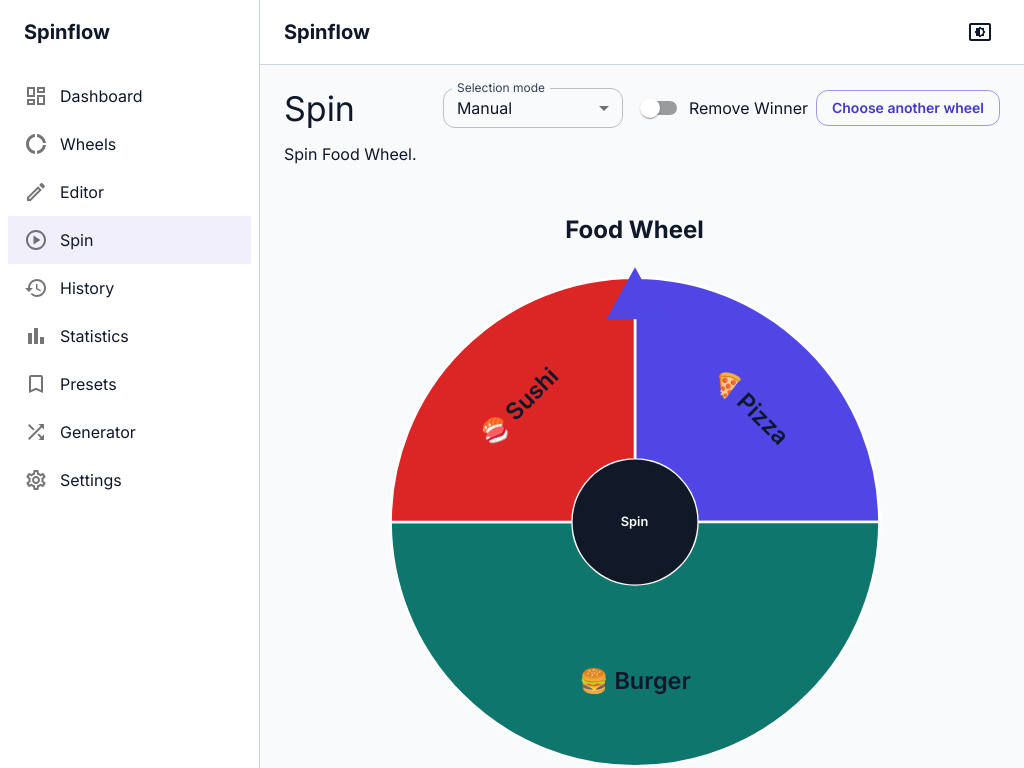
SpinScreen › keeps the wheel open when Close is chosen for a winner with children
This screenshot has width=1024, height=768.
Click the button with aria-label "Spin the wheel". click: {"x": 634, "y": 522}
box: [575, 462, 694, 582]
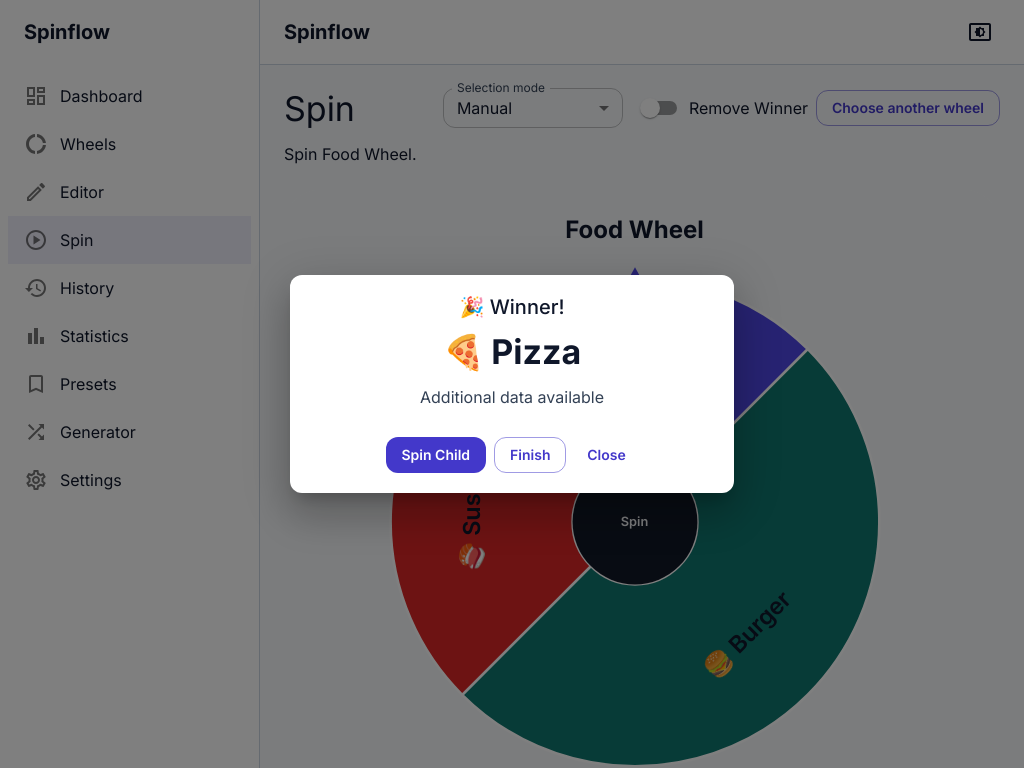
Now the text "Pizza" is shown, box [491, 331, 581, 372]
Now the text "Additional data available" is shown, box [420, 387, 604, 407]
Click the button "Close". click: {"x": 606, "y": 455}
box: [574, 437, 638, 473]
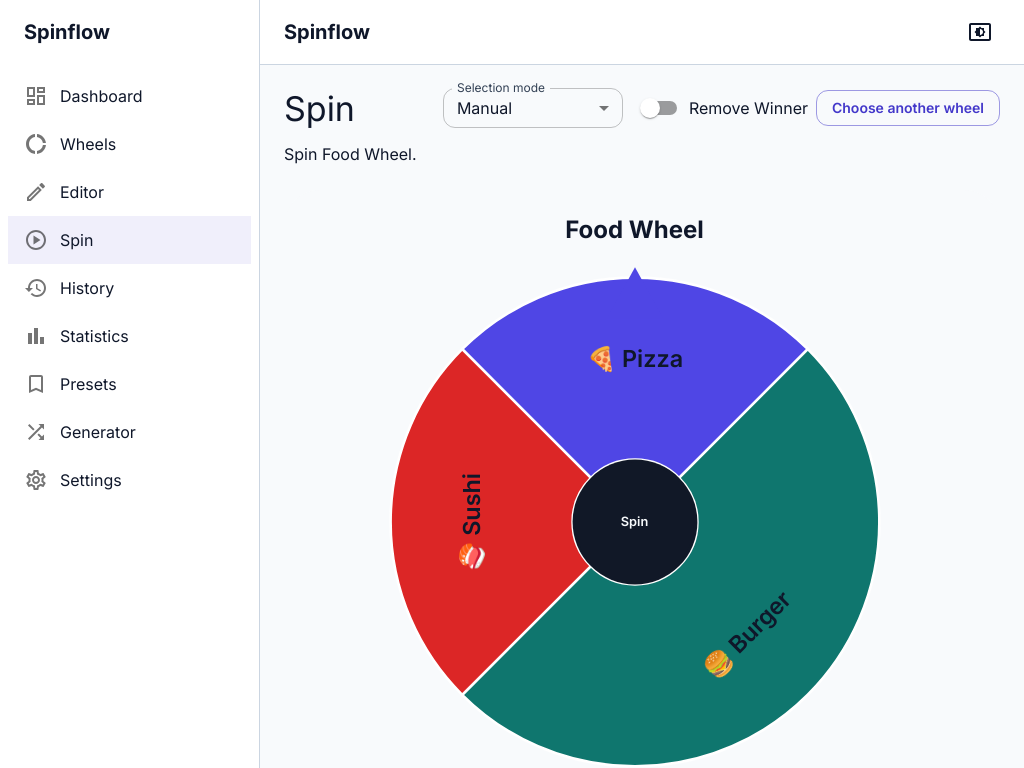
Expected: the text "Spin Food Wheel." is shown, [284, 142, 417, 166]
Now the dialog is gone
